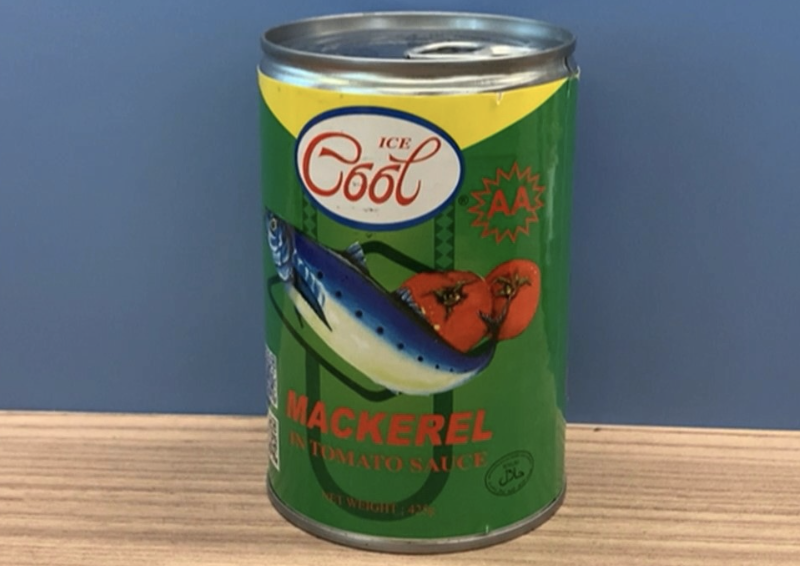sardines_450g: (271, 63, 552, 511)
